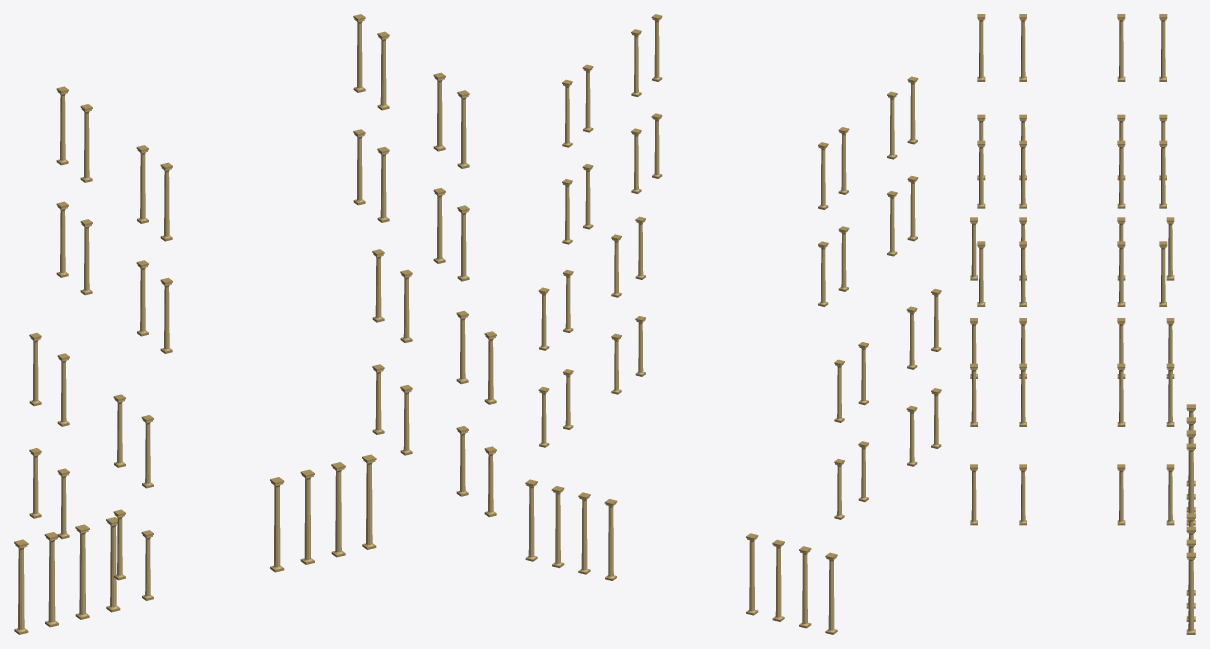
File: KOL_T1_ROYAL__04_Columns_Loggias.fbx
3 renders of one model, left to right at view 1: azimuth 30°, elevation 25°; view 2: azimuth 150°, elevation 25°; view 3: azimuth 270°, elevation 25°, orthographic. The views are drawn at different scales.
Parts seen in each view (by area): view 1: KOL_T1_ROYAL__04_Columns_Loggias__KOL_T1_RoyalTrim, KOL_T1_ROYAL__04_Columns_Loggias__KOL_T1_RoyalOchre; view 2: KOL_T1_ROYAL__04_Columns_Loggias__KOL_T1_RoyalTrim, KOL_T1_ROYAL__04_Columns_Loggias__KOL_T1_RoyalOchre; view 3: KOL_T1_ROYAL__04_Columns_Loggias__KOL_T1_RoyalTrim, KOL_T1_ROYAL__04_Columns_Loggias__KOL_T1_RoyalOchre.
Boxes of the visible parts, x1=… form: KOL_T1_ROYAL__04_Columns_Loggias__KOL_T1_RoyalTrim: x1=15, y1=18, x2=495, y2=631; KOL_T1_ROYAL__04_Columns_Loggias__KOL_T1_RoyalOchre: x1=14, y1=14, x2=496, y2=634; KOL_T1_ROYAL__04_Columns_Loggias__KOL_T1_RoyalTrim: x1=526, y1=18, x2=940, y2=631; KOL_T1_ROYAL__04_Columns_Loggias__KOL_T1_RoyalOchre: x1=525, y1=14, x2=941, y2=634; KOL_T1_ROYAL__04_Columns_Loggias__KOL_T1_RoyalTrim: x1=970, y1=18, x2=1194, y2=632; KOL_T1_ROYAL__04_Columns_Loggias__KOL_T1_RoyalOchre: x1=970, y1=14, x2=1195, y2=634.
Bounding box in the file's own units: 140 × 205 × 87.33.
